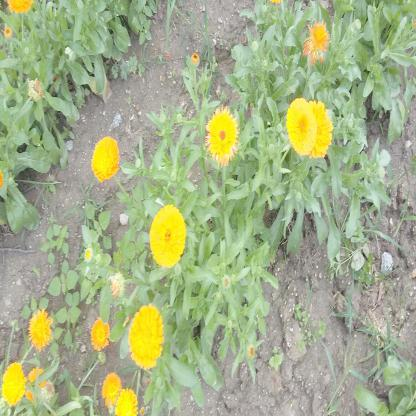marigold: (150, 204, 185, 266), (128, 306, 162, 366), (286, 99, 314, 157), (208, 111, 237, 159), (310, 98, 332, 160), (91, 137, 119, 178), (2, 364, 26, 402), (28, 313, 50, 347), (115, 390, 138, 416), (91, 320, 110, 350), (102, 374, 118, 404)
